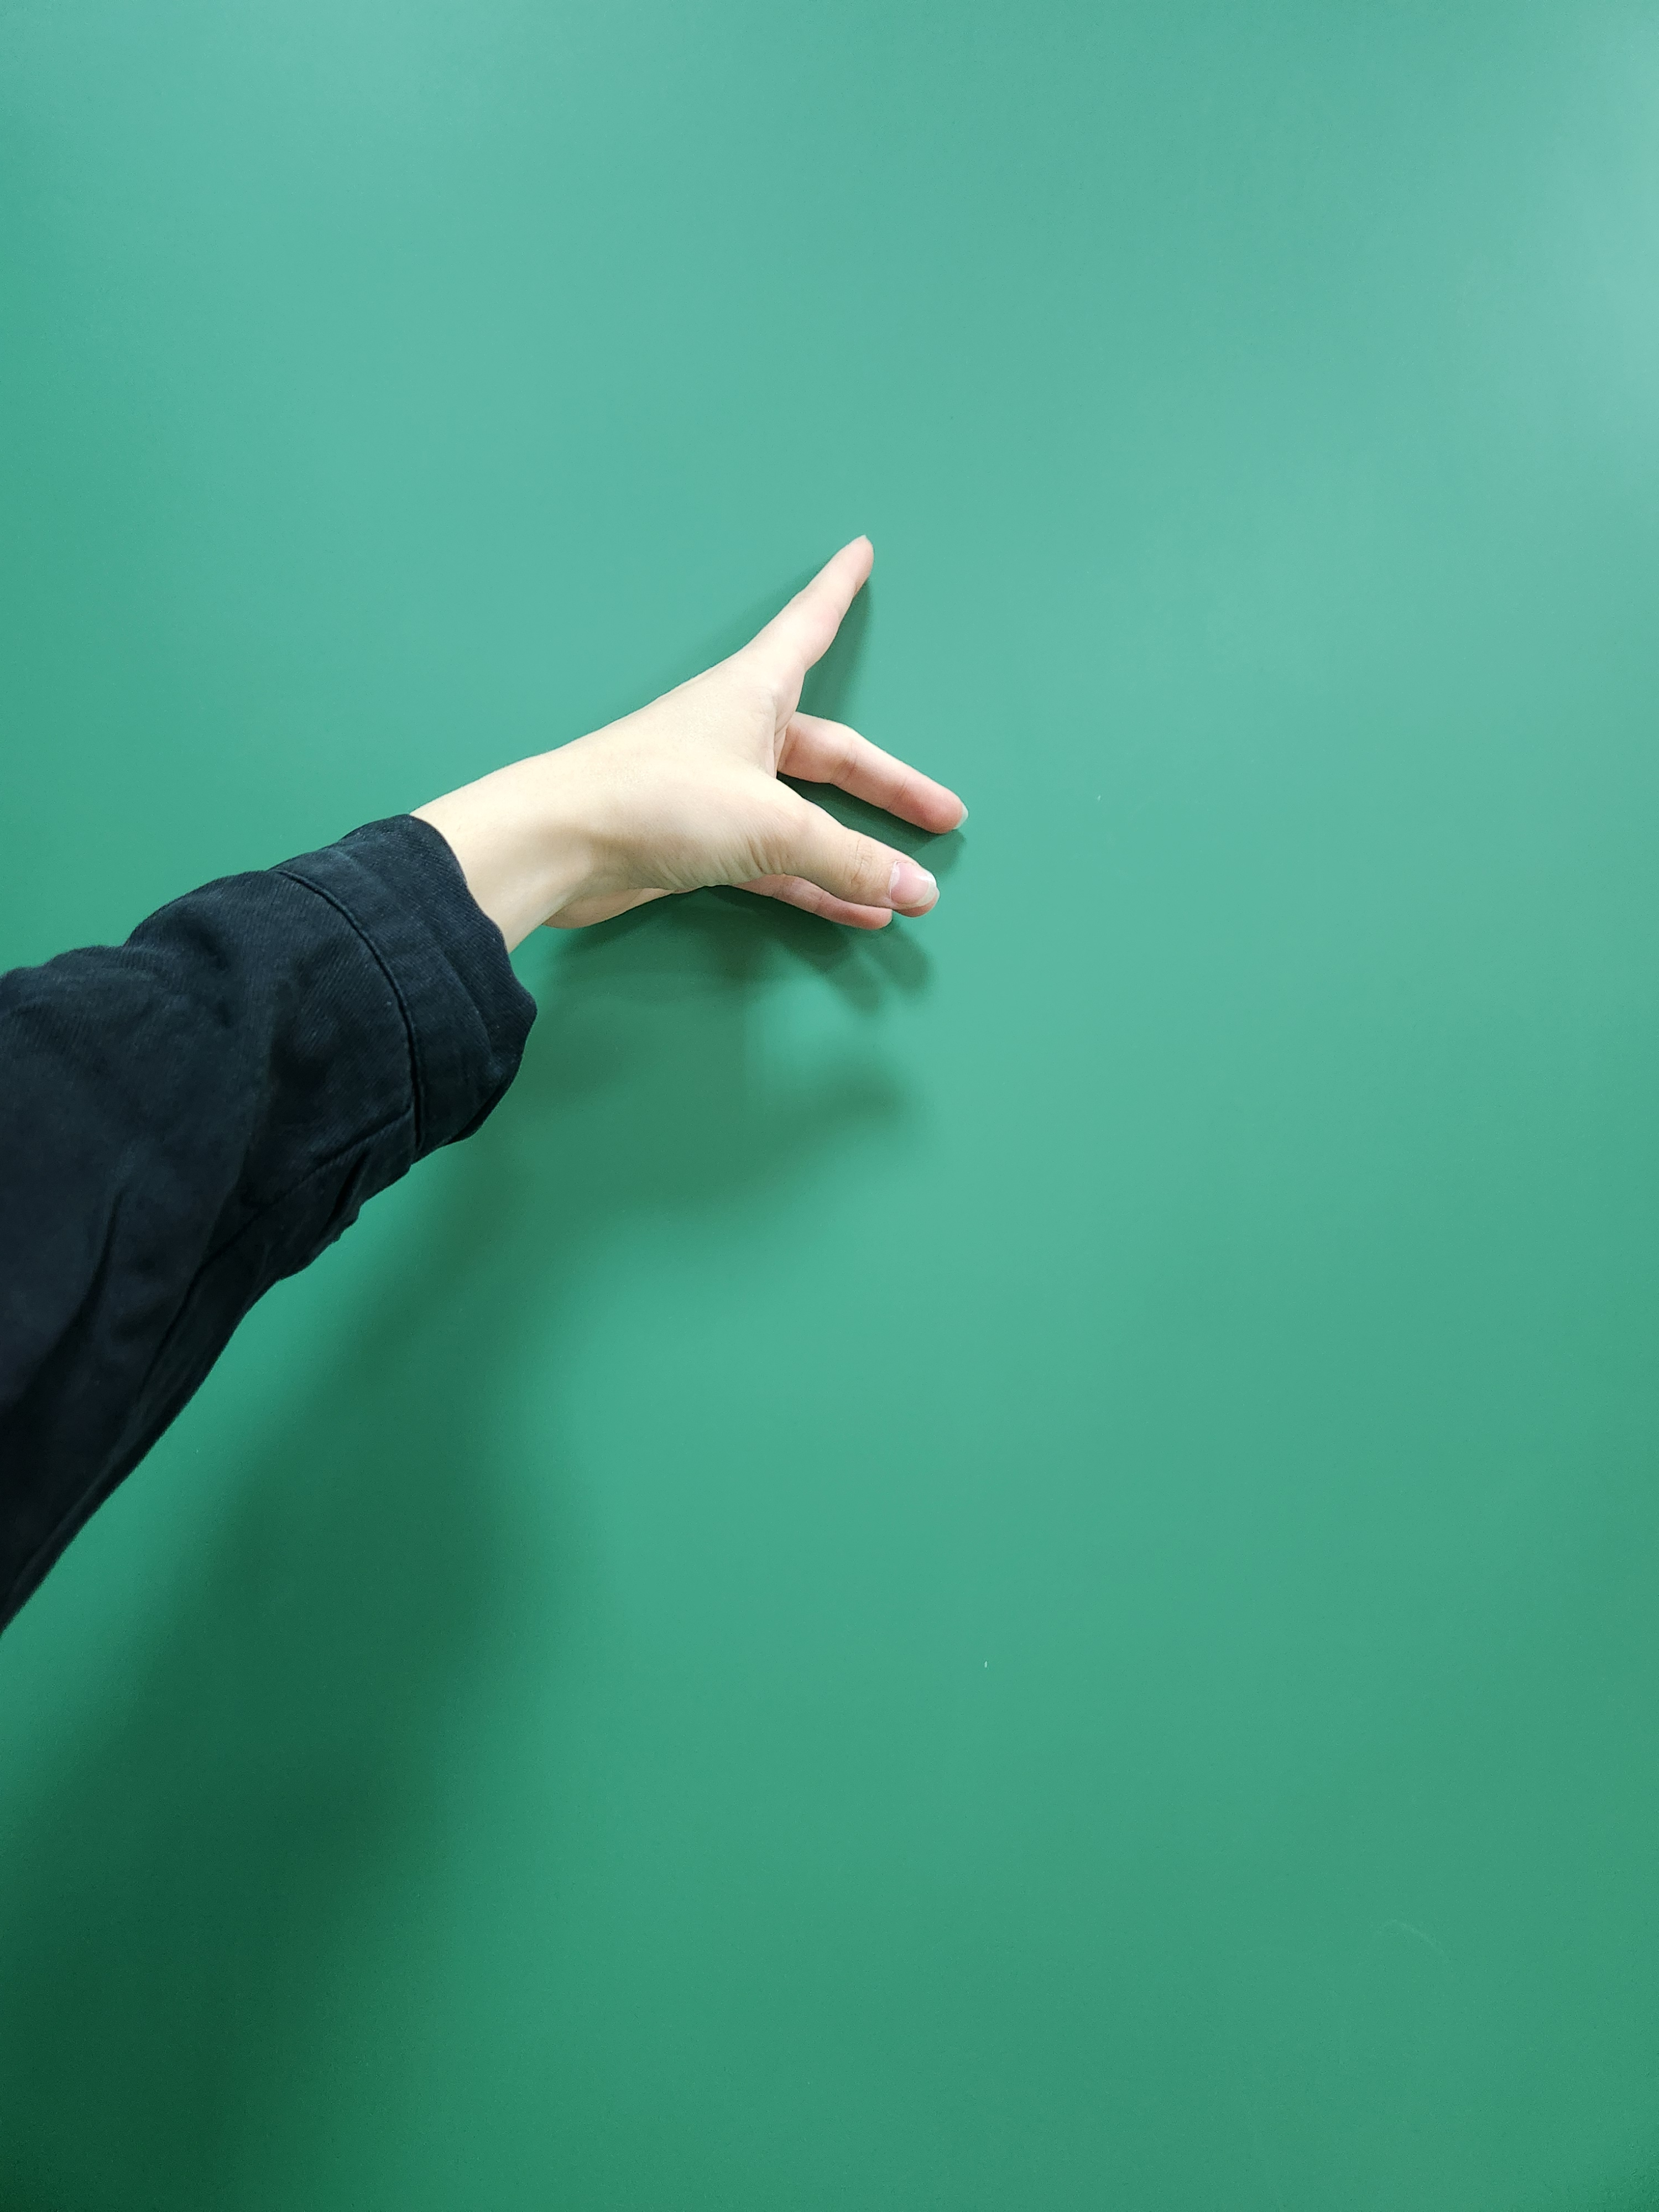pointing_gesture: (507, 533, 1014, 960)
